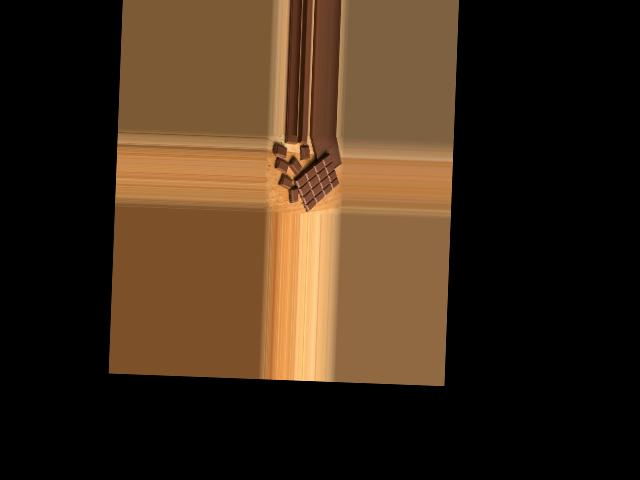chocolate: (290, 152, 340, 211)
